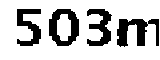0: (48, 7, 83, 48)
3: (87, 8, 117, 51)
5: (15, 7, 45, 50)
m: (116, 16, 160, 51)
